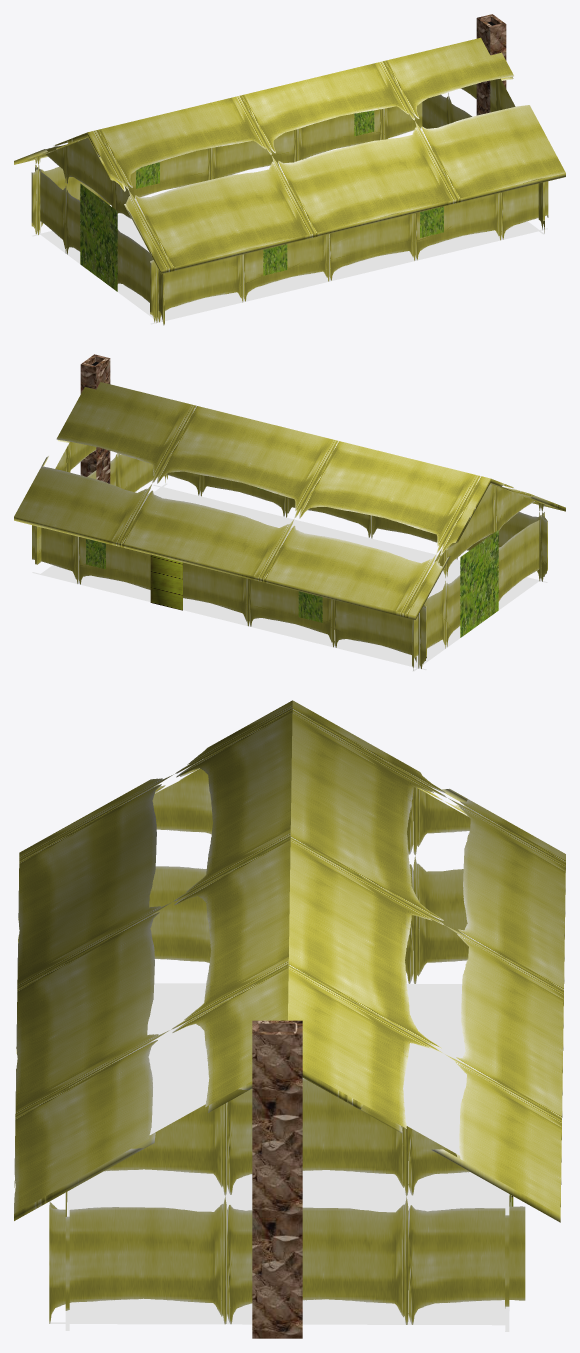
Rendered from Blockhaus.dae.
3 views of the same model, one above another, from view 1: azimuth 30°, elevation 25°; view 2: azimuth 150°, elevation 25°; view 3: azimuth 270°, elevation 25° (orthographic). The views are drawn at different scales.
Visible parts, largest first — view 1: Model, Fenster; view 2: Model, Tür, Fenster; view 3: Model.
Boxes of the visible parts, x1,y1,x2,y2 form: Model: (14,14,565,325); Fenster: (354,110,374,136); Model: (14,354,565,671); Tür: (150,554,182,610); Fenster: (86,538,105,569); Model: (14,700,565,1338).
Size of the model in its own units: 14.31 by 9.12 by 5.54.
